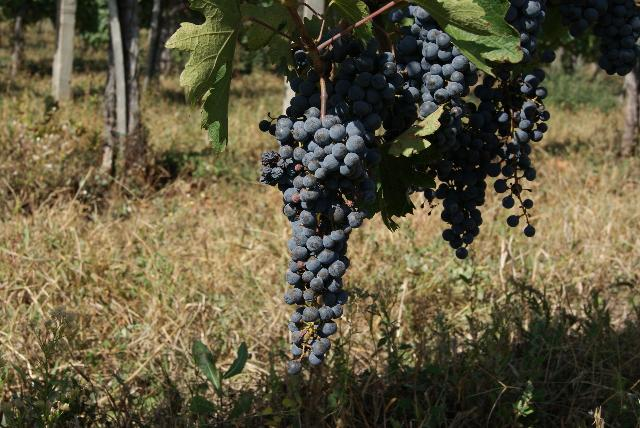grapes: (260, 108, 380, 375), (424, 85, 495, 259), (379, 52, 440, 230), (486, 69, 550, 238)
